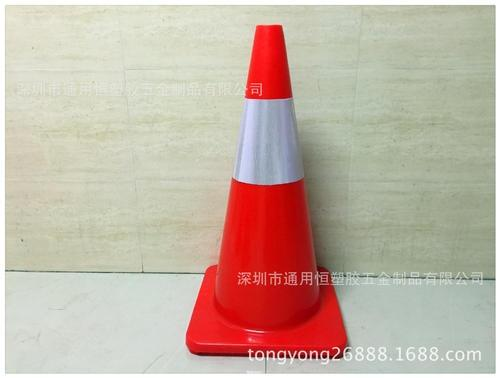cone_barrel: (193, 31, 332, 346)
